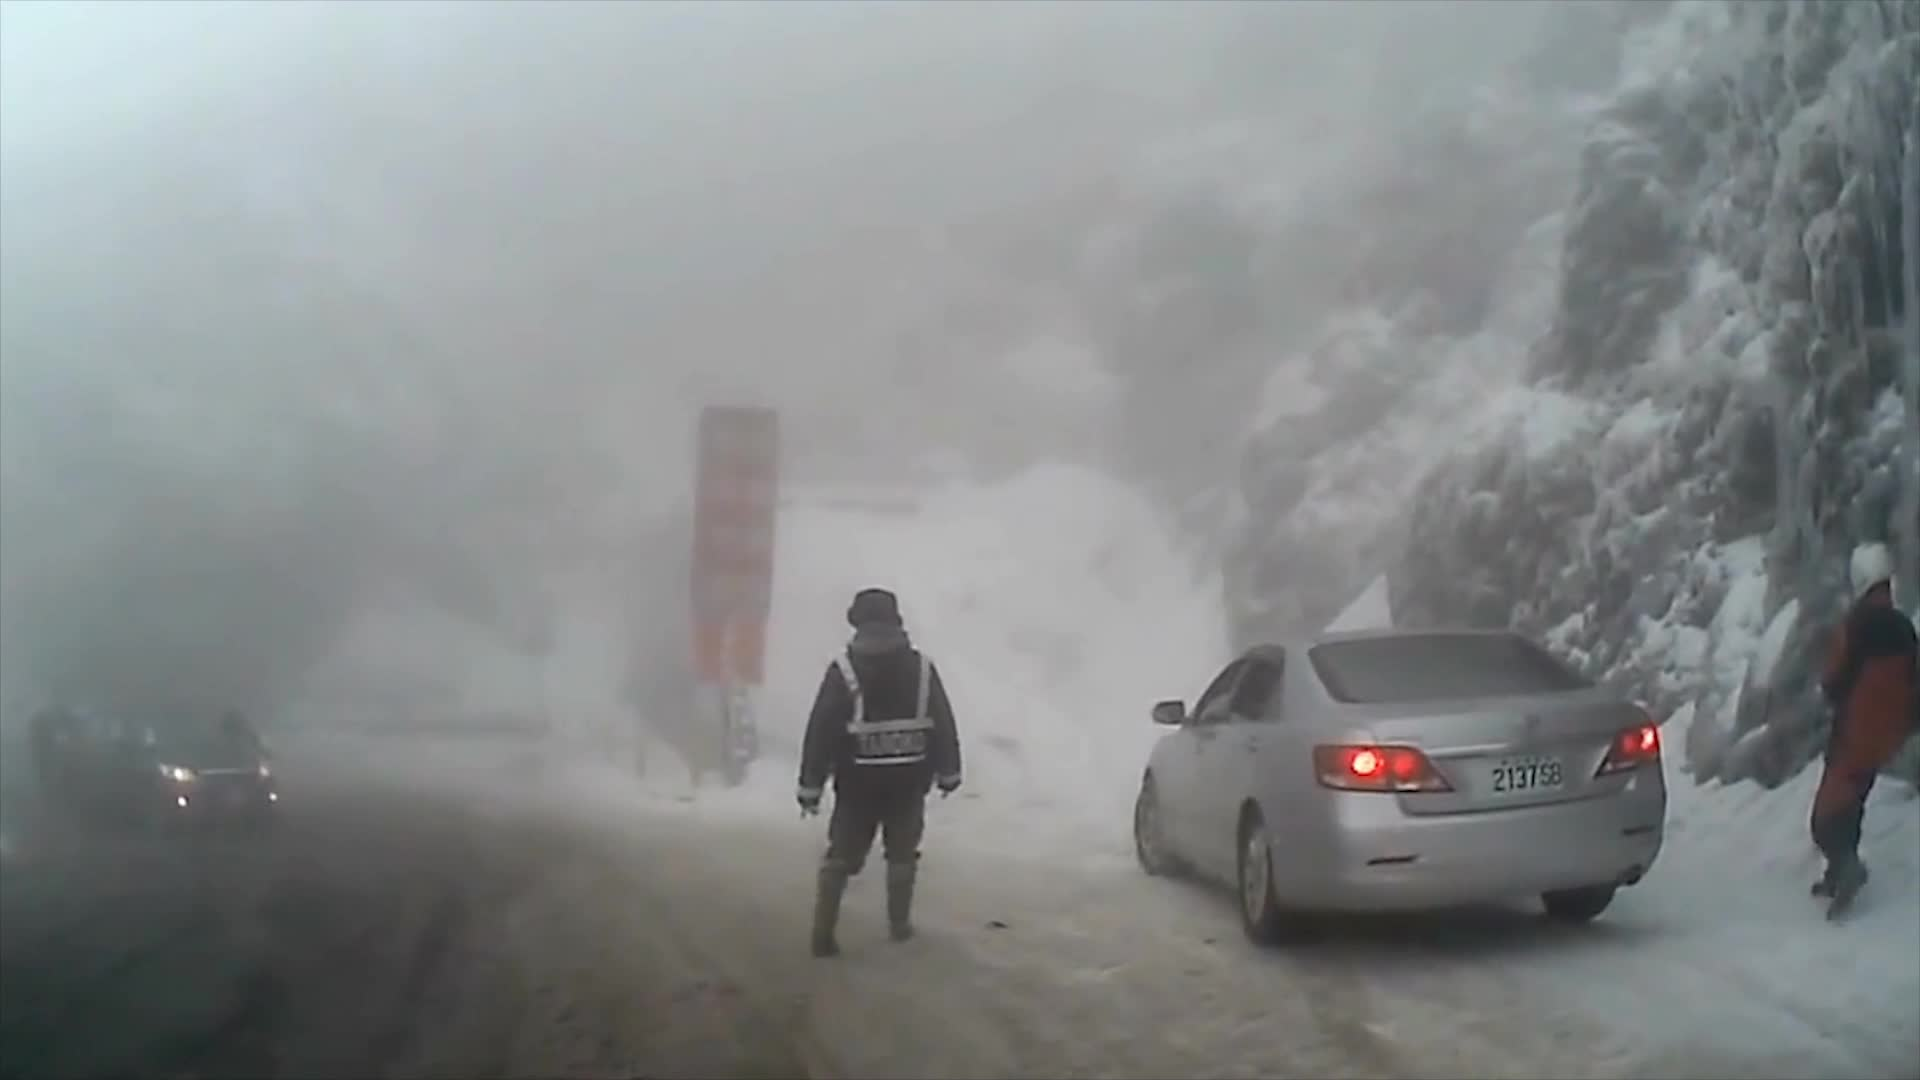pedestrian: (800, 587, 966, 954), (1801, 538, 1918, 918)
vehicle: (1129, 625, 1660, 942), (48, 698, 277, 830)
